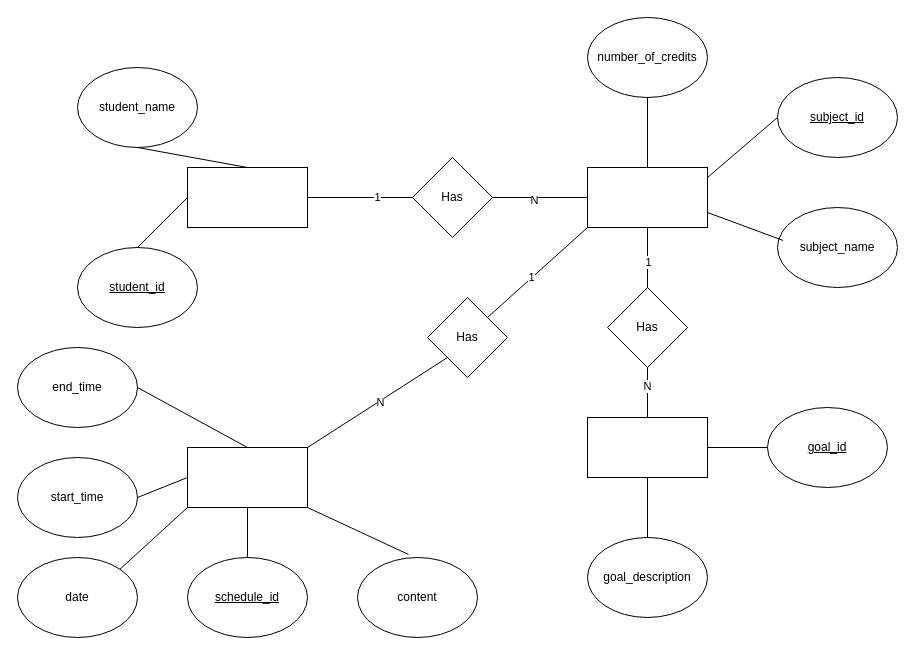
The diagram is 915 pixels wide and 655 high, and some of its shapes have lost their labels. Each missing label, with the centre of its shape:
"learning_goal" belongs at point 647,447.
"student" belongs at point 247,197.
"study_schedule" belongs at point 247,477.
"subject" belongs at point 647,197.
